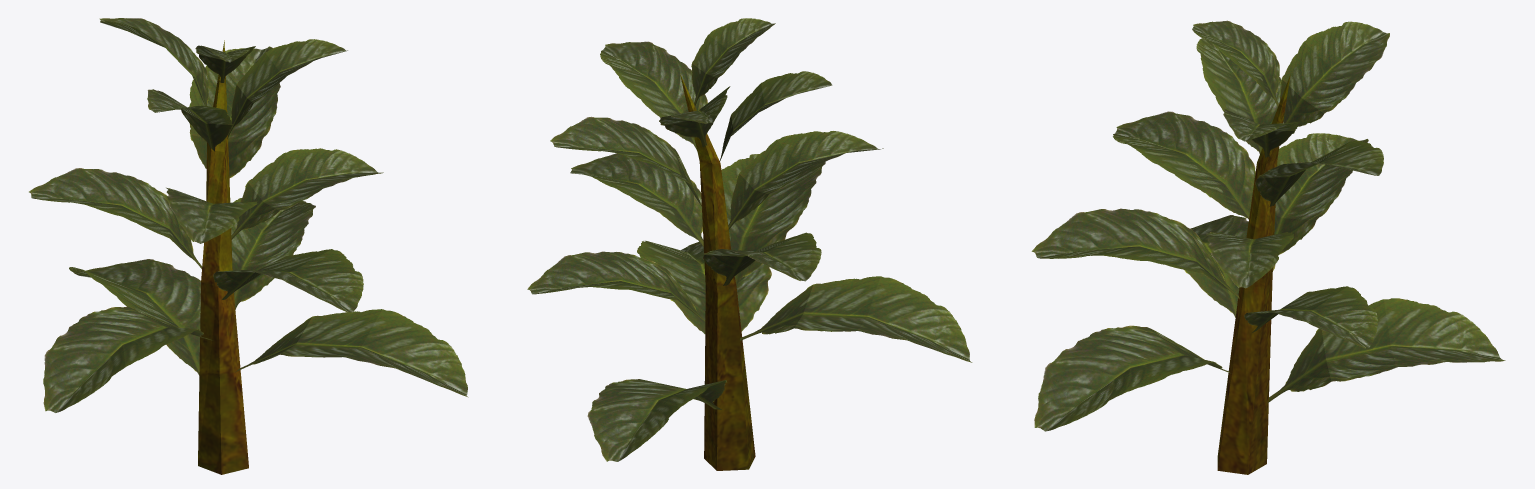
File: bigleafplant_01_tall.fbx
The picture shows the model from 3 angles, left to right: view 1: azimuth 30°, elevation 25°; view 2: azimuth 150°, elevation 25°; view 3: azimuth 270°, elevation 25°; orthographic projection.
Visible parts, largest first — view 1: bigleafa224; view 2: bigleafa224; view 3: bigleafa224.
Part boxes in pixels (x1,y1,x2,y2): bigleafa224: (29,18,468,474); bigleafa224: (527,18,972,470); bigleafa224: (1031,20,1505,474).
Size of the model in its own units: 206 by 217 by 229.
